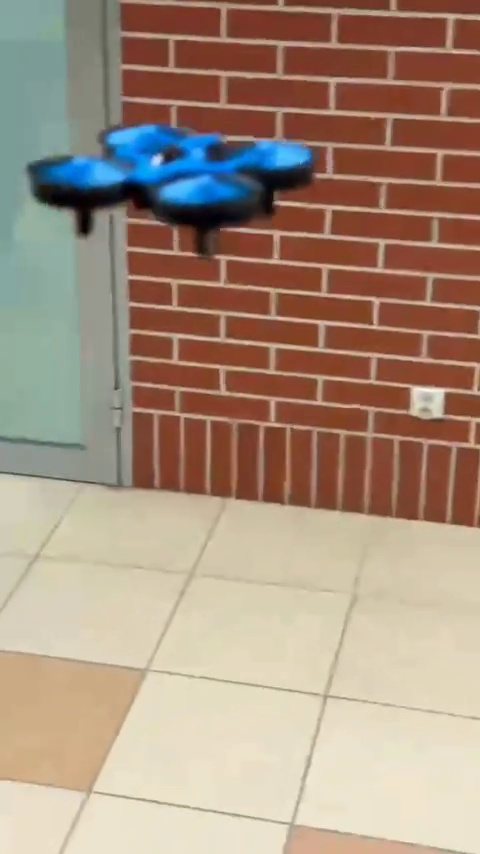drone: (20, 120, 312, 255)
